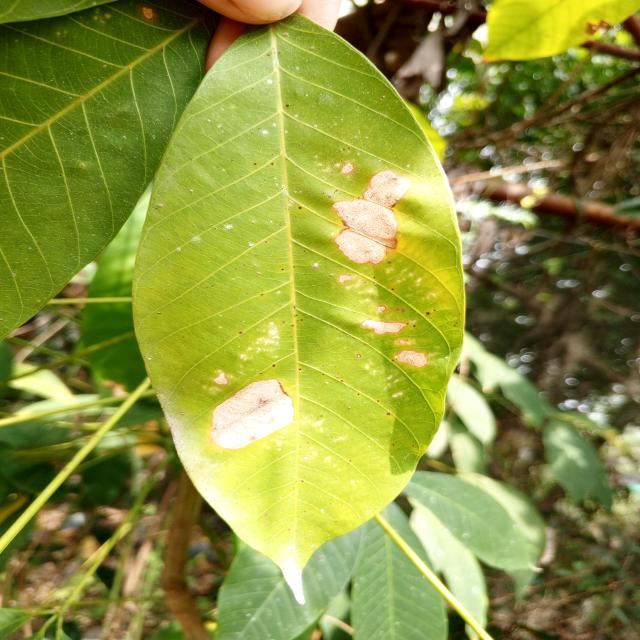Colletotrichum: (356, 354, 361, 358), (426, 312, 430, 315), (272, 364, 275, 367), (298, 207, 302, 209), (280, 223, 282, 226), (387, 413, 390, 415), (282, 321, 285, 323), (239, 332, 242, 334), (299, 368, 301, 371), (341, 380, 343, 382)
Leaf-Blight: (331, 168, 412, 266), (209, 379, 295, 449), (361, 319, 407, 335), (393, 349, 428, 368), (213, 372, 230, 385), (340, 162, 352, 173), (338, 274, 352, 282), (376, 306, 386, 313)
